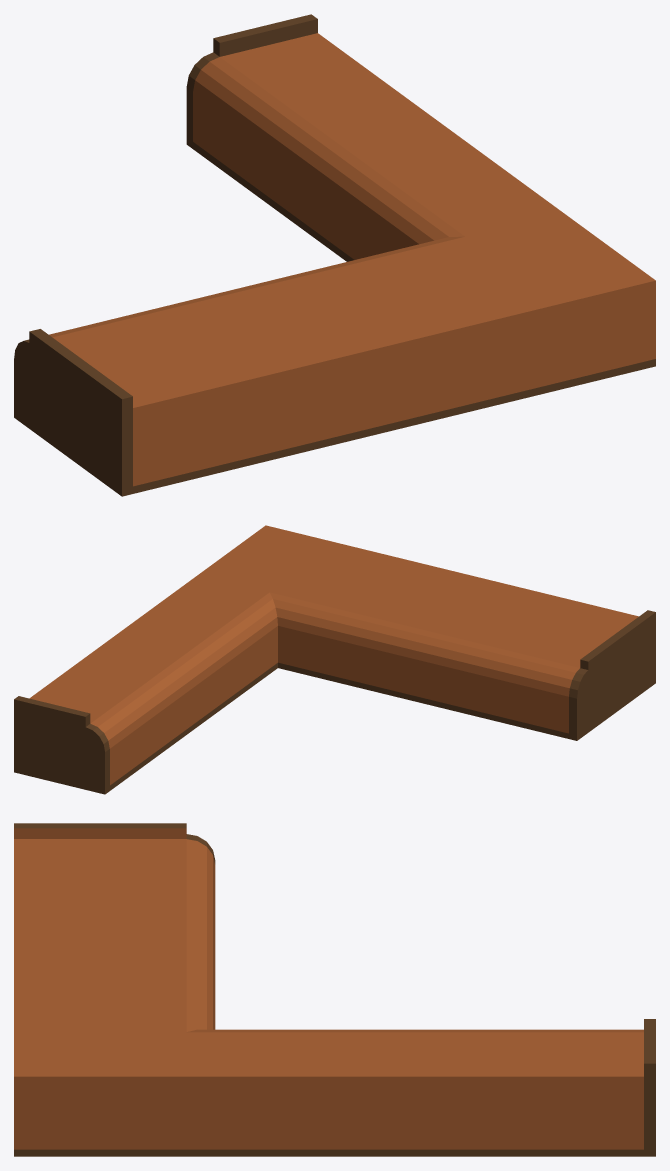
The model's file is l_chair.glb.
The picture shows the model from 3 angles, top to bottom: view 1: azimuth 30°, elevation 25°; view 2: azimuth 150°, elevation 25°; view 3: azimuth 270°, elevation 25°; orthographic projection. The views are drawn at different scales.
Visible parts, largest first — view 1: l_chair-col; view 2: l_chair-col; view 3: l_chair-col.
Boxes of the visible parts, x1,y1,x2,y2 form: l_chair-col: [14, 14, 655, 496]; l_chair-col: [14, 525, 655, 794]; l_chair-col: [14, 823, 655, 1156].
Size of the model in its own units: 2.85 by 0.5102 by 3.19.
